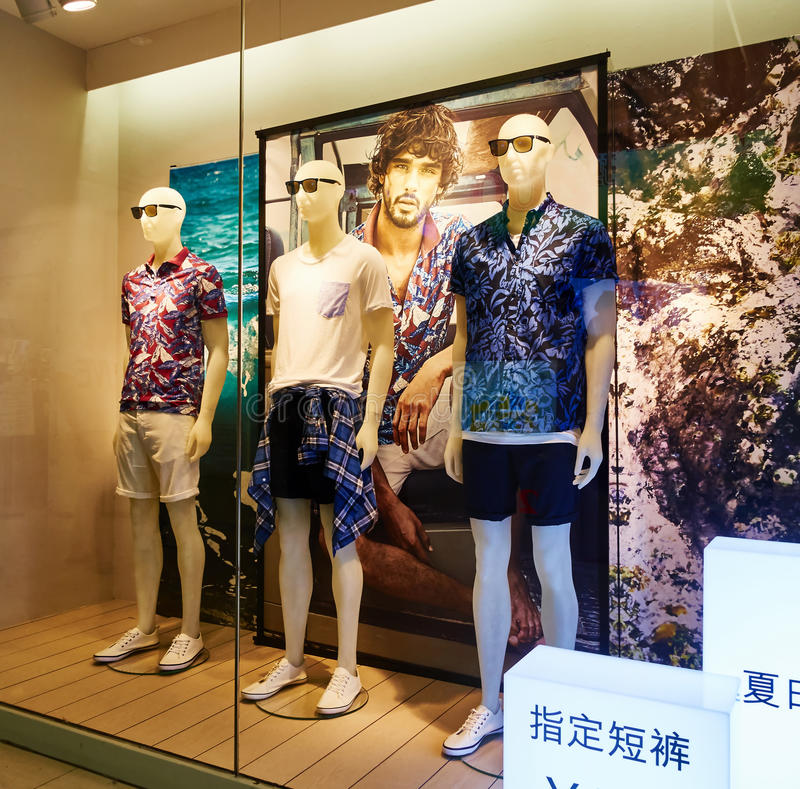person-like: (435, 106, 629, 766), (237, 155, 398, 718), (90, 181, 233, 674)
